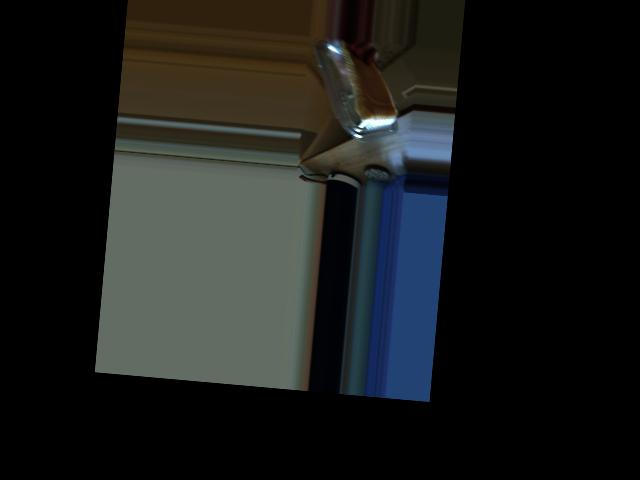cheese: (322, 72, 390, 132)
